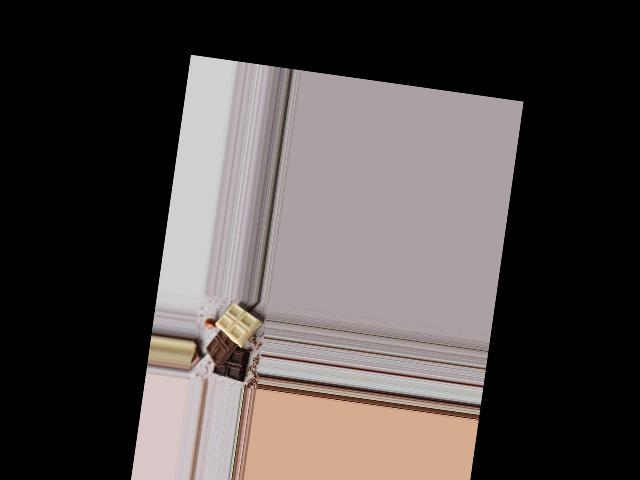chocolate: (201, 300, 259, 386)
